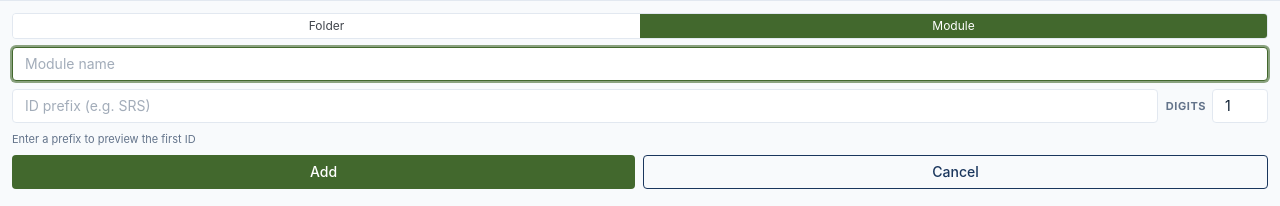
it: NewModuleForm › uppercases the prefix in the preview, matching what the backend mints
This screenshot has width=1280, height=206.
Type "chs" into the field with placeholder "ID prefix (e.g. SRS)" at (585, 106), box [12,89,1158,123]
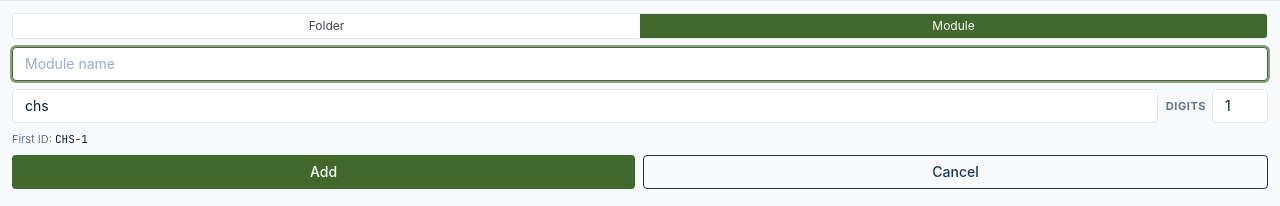
Expected: the text "CHS-1" is shown, [55,132,88,146]
